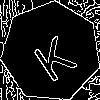K: (26, 27, 79, 84)
